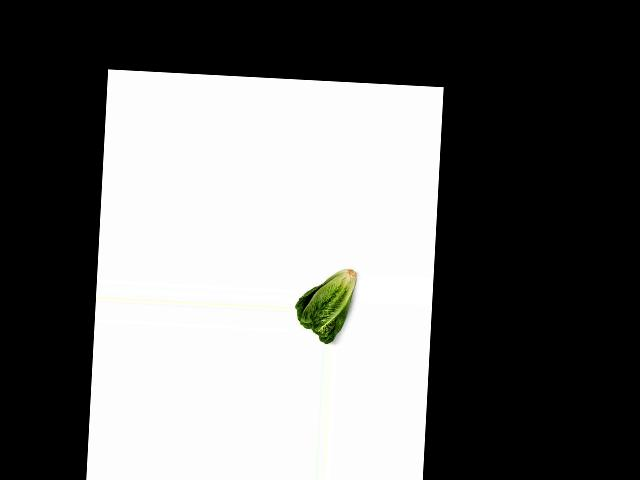lettuce: (294, 265, 358, 344)
